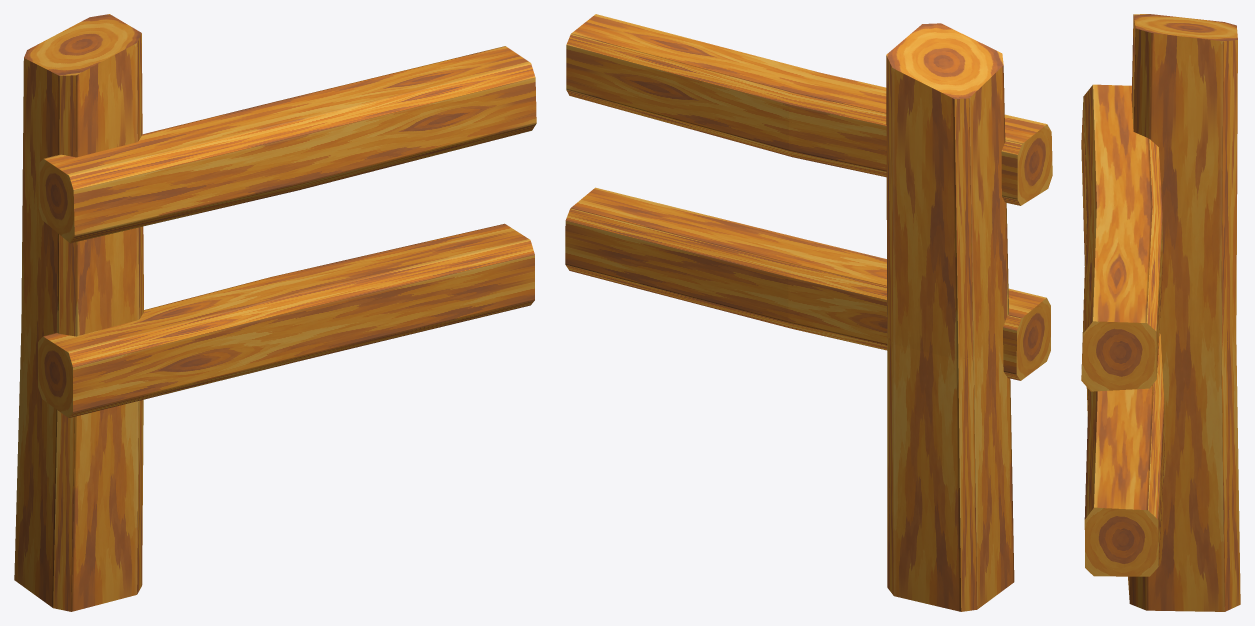
Rendered from fence_w_80.glb.
3 renders of one model, left to right at view 1: azimuth 30°, elevation 25°; view 2: azimuth 150°, elevation 25°; view 3: azimuth 270°, elevation 25°, orthographic. The views are drawn at different scales.
Parts seen in each view (by area): view 1: fence_w_80; view 2: fence_w_80; view 3: fence_w_80.
Boxes of the visible parts, x1=… form: fence_w_80: x1=14, y1=14, x2=536, y2=611; fence_w_80: x1=565, y1=14, x2=1052, y2=611; fence_w_80: x1=1081, y1=14, x2=1240, y2=611.
Size of the model in its own units: 1.04 by 1.19 by 0.2957.
1 material, 1 textured.
